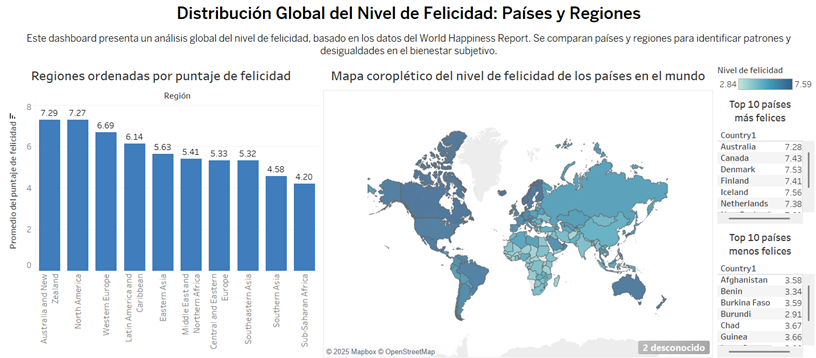

The dashboard page shown, as its layout file describes it:
{"tool":"tableau","page":{"name":"Dashboard 1","canvas":[1520,680],"ordinal":0},"visuals":[{"type":"text","box":[8,8,1504,49]},{"type":"text","box":[8,57,1504,66]},{"type":"worksheet","title":"Regiones ordenadas","mark":"Automatic","rows":["Happiness Score"],"cols":["Region"],"box":[8,123,589.7,549]},{"type":"worksheet","title":"Mapa coroplético","mark":"Automatic","box":[597.7,123,727.3,549]},{"type":"legend","title":"Mapa coroplético","param":"[federated.1xikr2n17yirka1ass5e20s67626].[sum:Happiness Score:qk]","box":[1325,123,187,56]},{"type":"worksheet","title":"Top países más felices","mark":"Automatic","rows":["Country"],"box":[1325,179,187,246.5]},{"type":"worksheet","title":"Top países menos felices","mark":"Automatic","rows":["Country"],"box":[1325,425.5,187,246.5]}]}

Visuals, with their boxes in screenshot pixels (x1, y1, x2, y2), scaled from the page's 1520x680 canvas onto the 816x358 screenshot:
text: 4:4:812:30
text: 4:30:812:65
"Regiones ordenadas" worksheet: 4:65:321:354
"Mapa coroplético" worksheet: 321:65:711:354
"Mapa coroplético" legend: 711:65:812:94
"Top países más felices" worksheet: 711:94:812:224
"Top países menos felices" worksheet: 711:224:812:354
